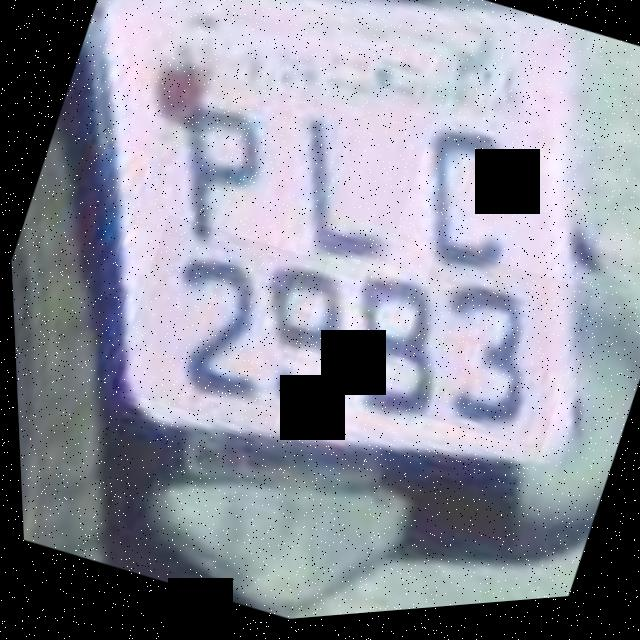2: (101, 208, 330, 451)
3: (376, 242, 596, 471)
8: (304, 239, 497, 459)
9: (210, 225, 412, 446)
J: (242, 79, 438, 300)
P: (112, 55, 303, 270)
